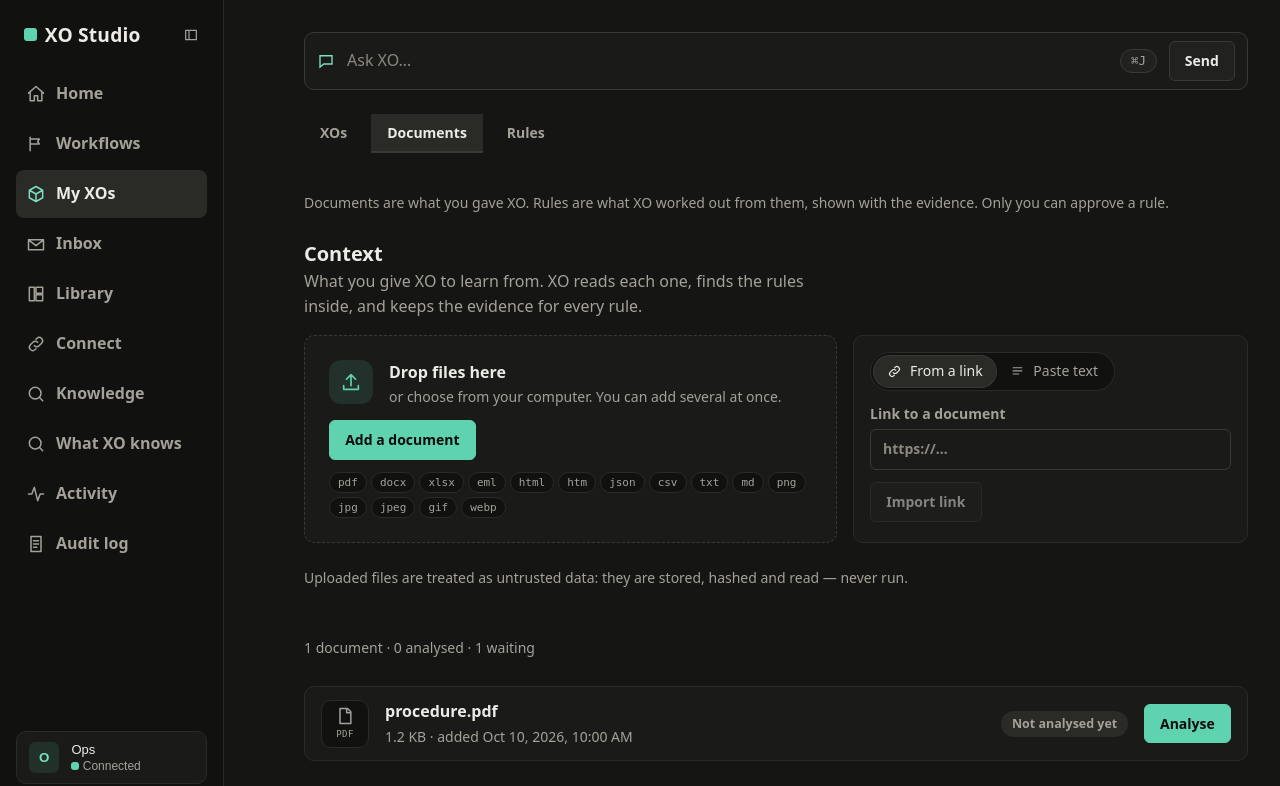
Test: the workspace pause › a role without manage cannot pause, and is told why
Earlier steps of the test are not shown.
Click the button "Analyse" at (1187, 724), box top-left (1144, 704), bottom-right (1231, 743)
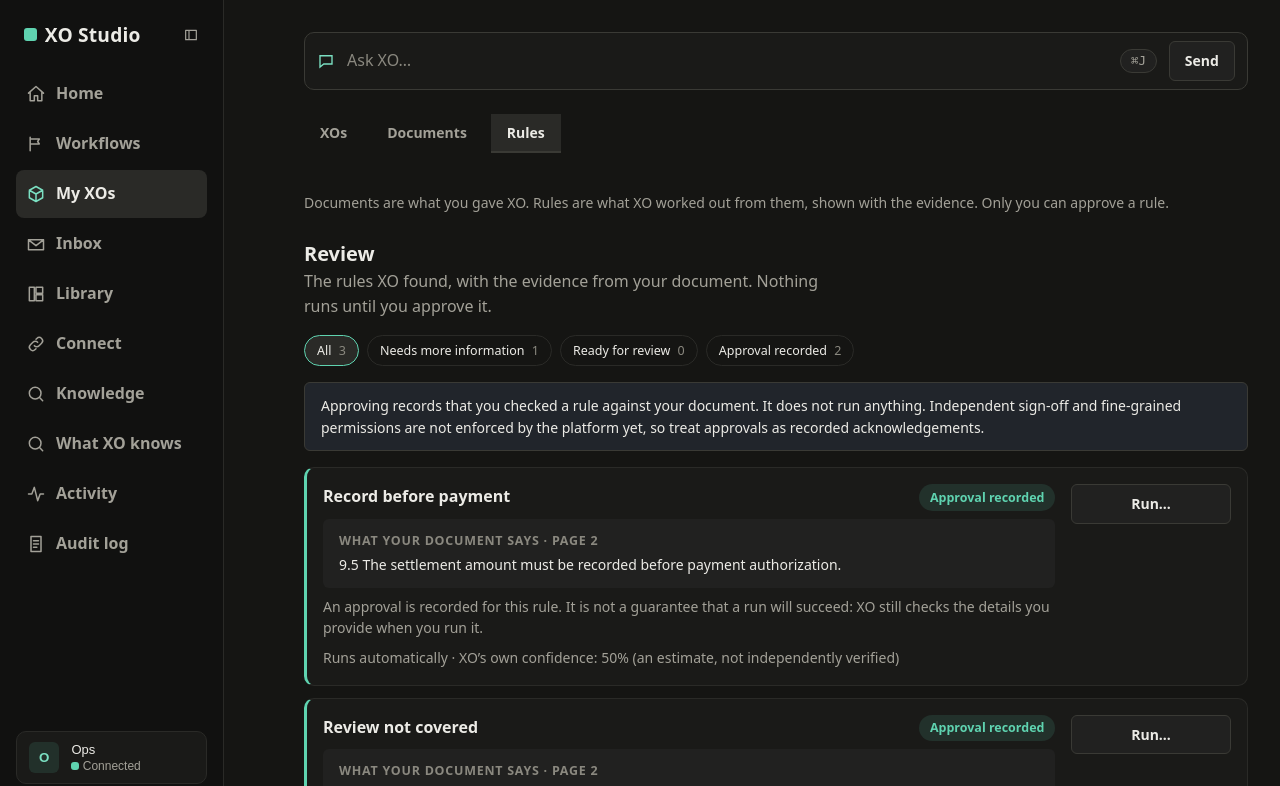
Check: the text "settlement amount must be recorded" is shown, box top-left (339, 555), bottom-right (841, 574)
Click the button "Workflows" at (112, 144), box top-left (16, 120), bottom-right (207, 168)
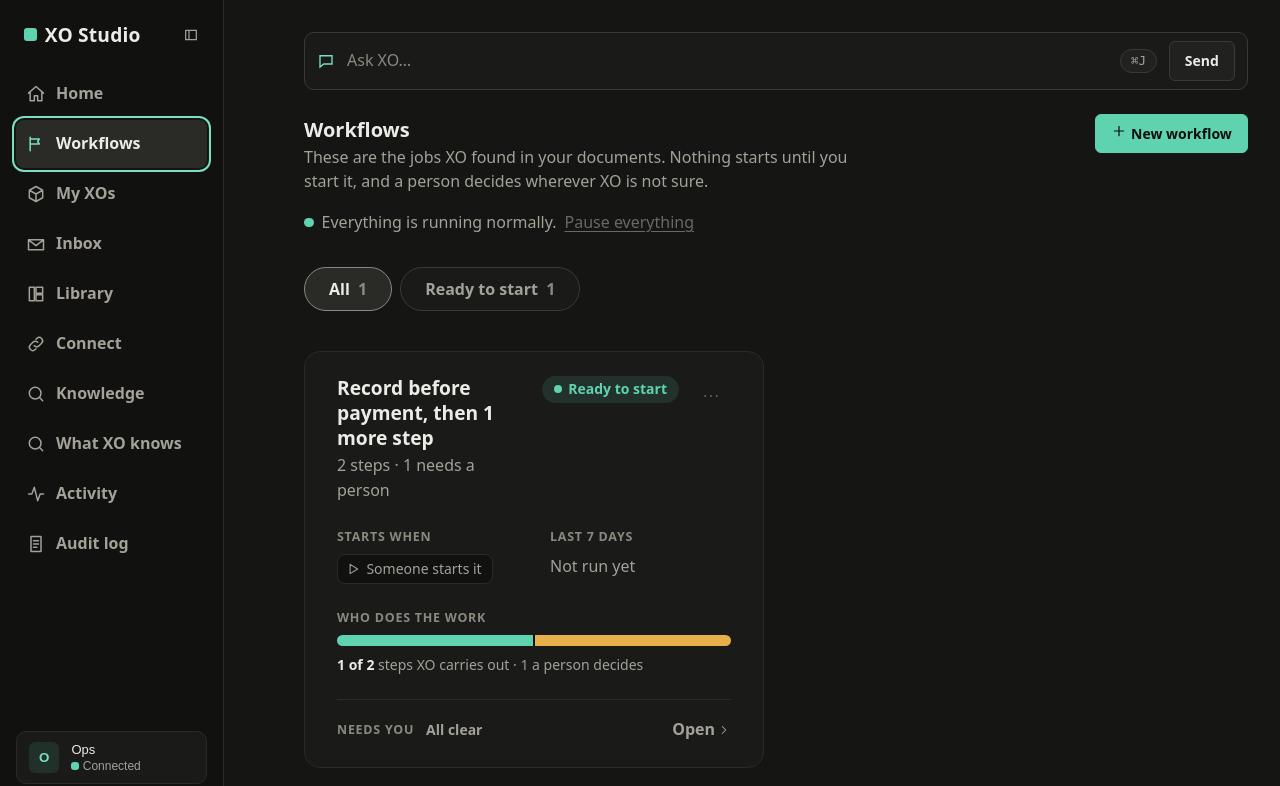
Check: the button "Record before payment, then 1 more step" is shown, box top-left (337, 376), bottom-right (530, 451)
Check: the button "Pause everything" is disabled, box top-left (564, 210), bottom-right (694, 235)
